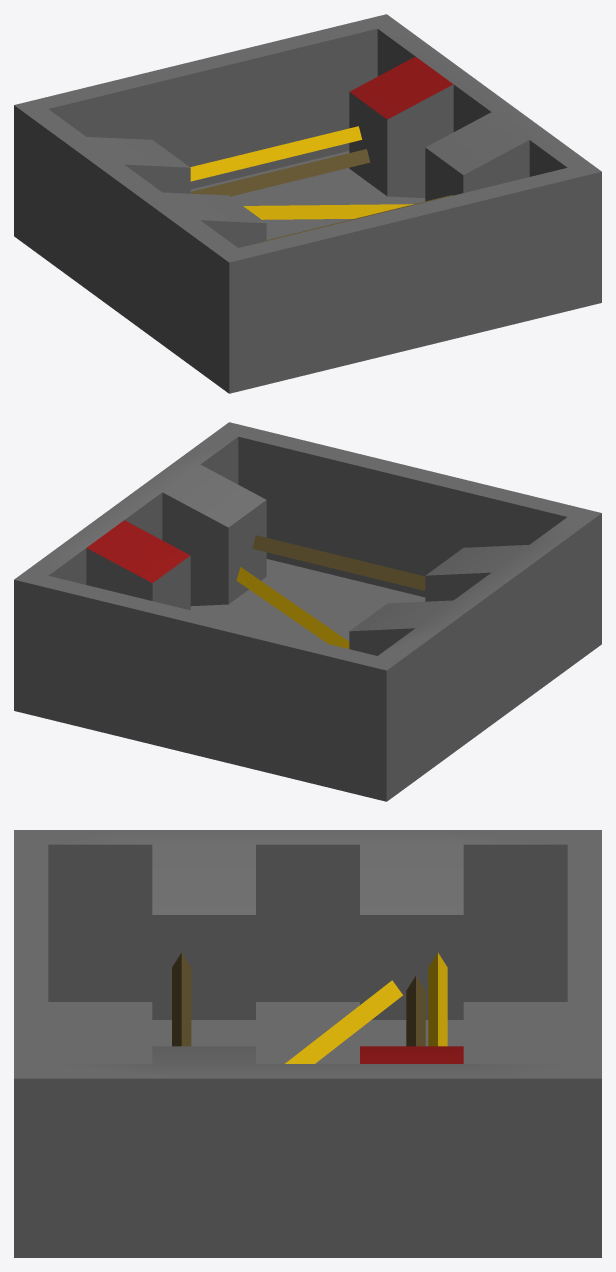
File: Electrics.fbx
The picture shows the model from 3 angles, top to bottom: view 1: azimuth 30°, elevation 25°; view 2: azimuth 150°, elevation 25°; view 3: azimuth 270°, elevation 25°; orthographic projection. The views are drawn at different scales.
Visible parts, largest first — view 1: Electrics; view 2: Electrics; view 3: Electrics.
Part boxes in pixels (box(x1,y1,x2,y2)): Electrics: box(14, 14, 601, 393); Electrics: box(14, 422, 601, 801); Electrics: box(14, 830, 601, 1257).
Bounding box in the file's own units: 1 × 0.3364 × 1.
